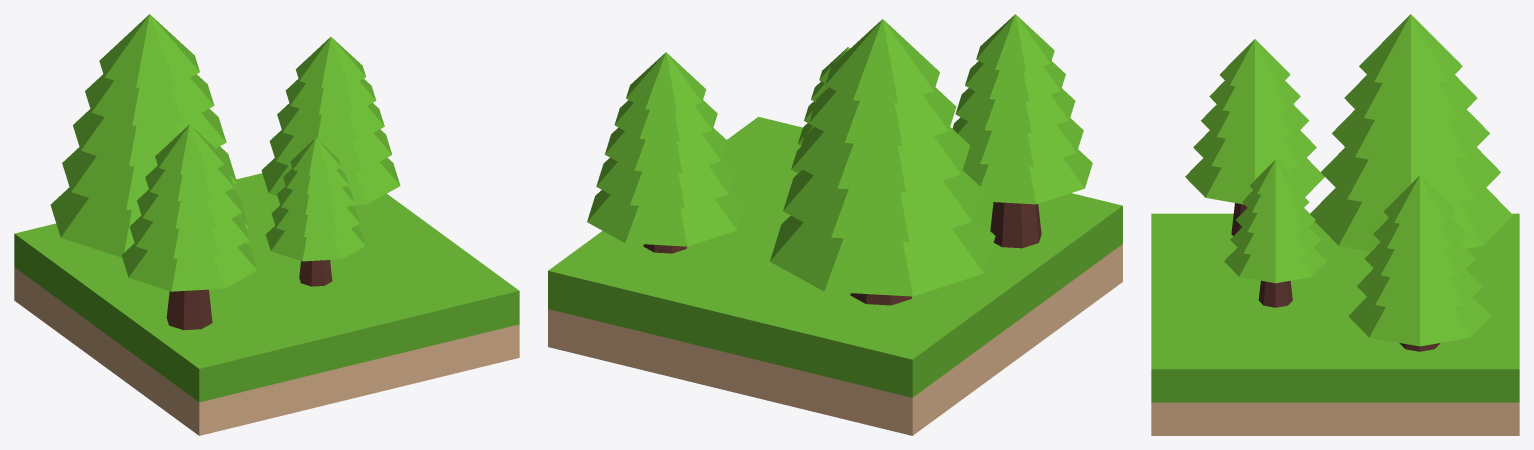
The model's file is TreeTile4.fbx.
3 renders of one model, left to right at view 1: azimuth 30°, elevation 25°; view 2: azimuth 150°, elevation 25°; view 3: azimuth 270°, elevation 25°, orthographic. The views are drawn at different scales.
Parts seen in each view (by area): view 1: Cube, Cylinder, Cylinder.001, Cylinder.003, Cylinder.002; view 2: Cube, Cylinder, Cylinder.003, Cylinder.001, Cylinder.002; view 3: Cube, Cylinder, Cylinder.003, Cylinder.001, Cylinder.002.
Part boxes in pixels (box(x1,y1,x2,y2)): Cube: box(14, 173, 519, 435); Cylinder: box(50, 14, 248, 257); Cylinder.001: box(121, 124, 257, 330); Cylinder.003: box(261, 37, 400, 205); Cylinder.002: box(265, 138, 365, 286); Cube: box(548, 116, 1122, 435); Cylinder: box(770, 19, 995, 305); Cylinder.003: box(587, 52, 745, 253); Cylinder.001: box(952, 14, 1092, 248); Cylinder.002: box(791, 47, 849, 173); Cube: box(1151, 213, 1519, 435); Cylinder: box(1310, 14, 1512, 251); Cylinder.003: box(1348, 175, 1491, 351); Cylinder.001: box(1185, 39, 1324, 235); Cylinder.002: box(1224, 159, 1327, 307).
Size of the model in its own units: 109 by 91.56 by 100.
